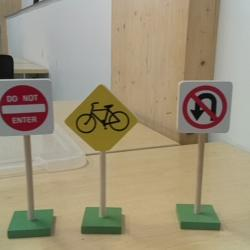bicycle: (64, 84, 138, 152)
do_not_enter: (0, 79, 54, 136)
no_u_turn: (177, 80, 233, 133)
